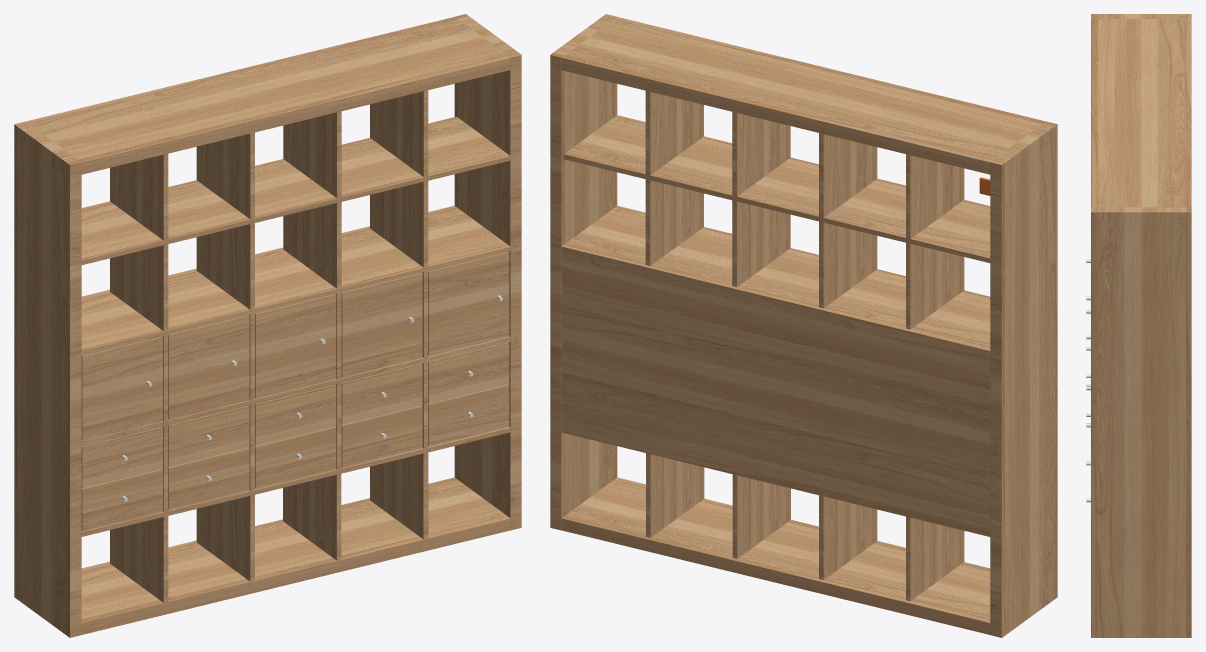
The model's file is KALLAX_Shelf_with_10_Oak_effect_Accessories.obj.
The picture shows the model from 3 angles, left to right: view 1: azimuth 30°, elevation 25°; view 2: azimuth 150°, elevation 25°; view 3: azimuth 270°, elevation 25°; orthographic projection. The views are drawn at different scales.
Visible parts, largest first — view 1: Generic_Models; view 2: Generic_Models; view 3: Generic_Models.
Part boxes in pixels (x1,y1,x2,y2): Generic_Models: (14, 14, 521, 637); Generic_Models: (550, 14, 1057, 637); Generic_Models: (1091, 14, 1191, 637).
Bounding box in the file's own units: 1820 × 1820 × 409.
